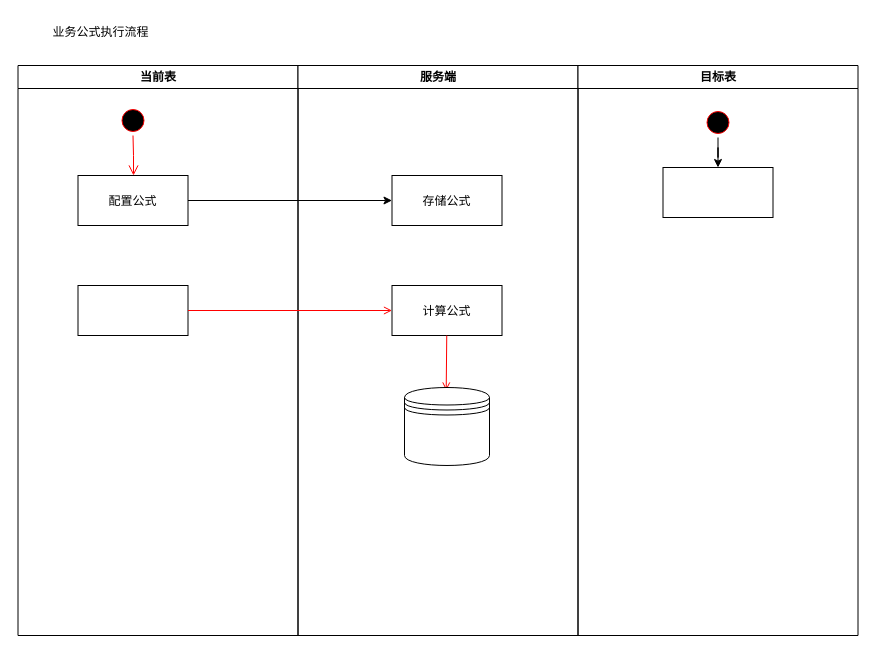
The diagram is 875 pixels wide and 653 high, and some of its shapes have lost their labels. The centre of each missing label's shape, as x and y in pixels:
"删除、插入、 更新目标表数据" goes at (x=447, y=426).
"触发公式" goes at (x=132, y=310).
"请求目标表" goes at (x=717, y=192).
